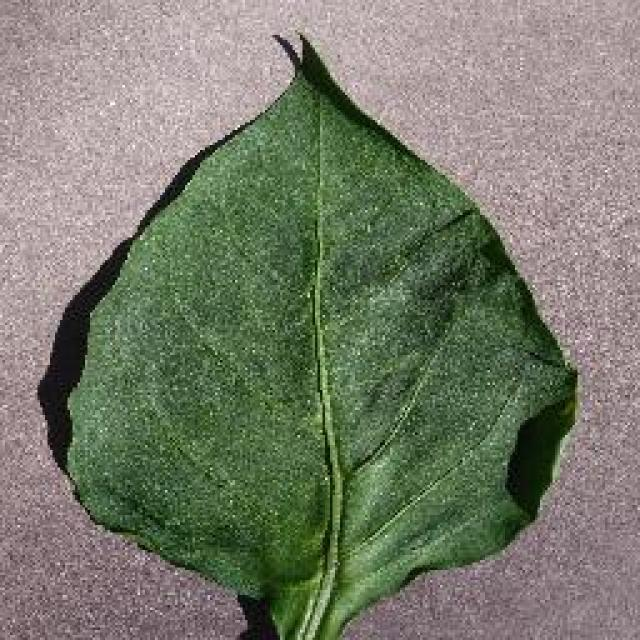Leaf: (36, 19, 608, 638)
